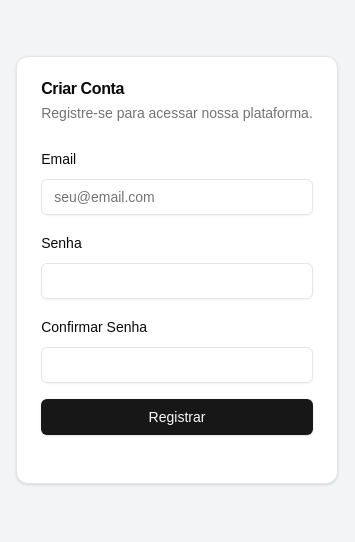
Test case: Registro de Usuário › Deve mostrar mensagem de erro se as senhas não coincidirem
Type "usuario@example.com" into the field with test id "email" at (177, 197), box [41, 179, 313, 215]
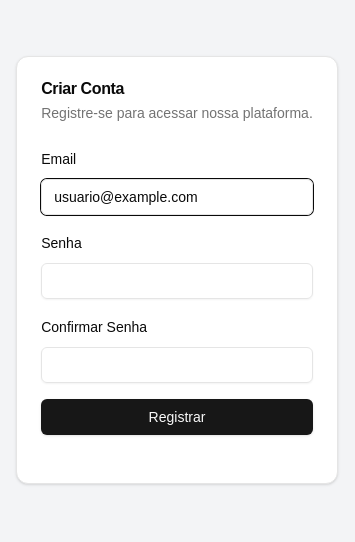
Type "senha123" into the password field with test id "senha" at (177, 281), box [41, 263, 313, 299]
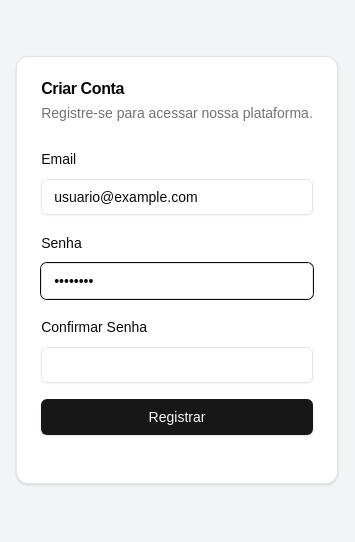
Type "diferente123" into the password field with test id "csenha" at (177, 365), box [41, 347, 313, 383]
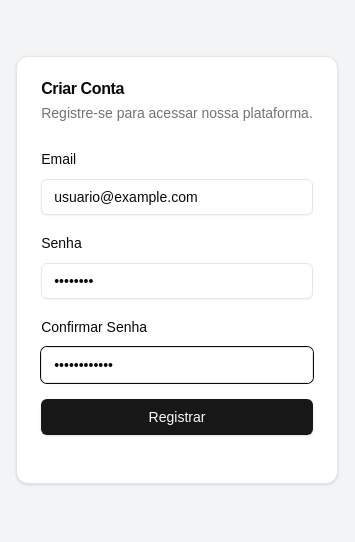
Click the submit button at (177, 417), box [41, 399, 313, 435]
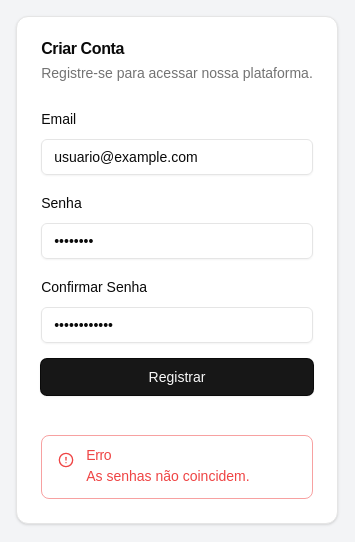
Result: the text "As senhas não coincidem." is shown at [86, 468, 250, 484]
